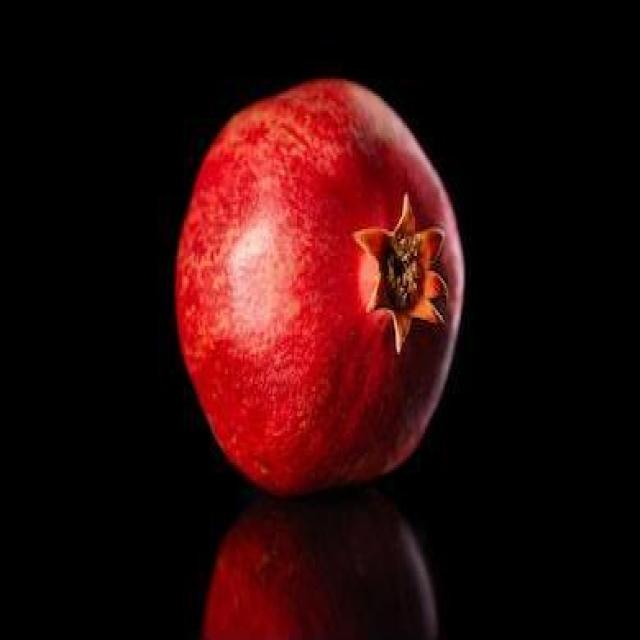Pomegranate: (174, 78, 465, 500)
